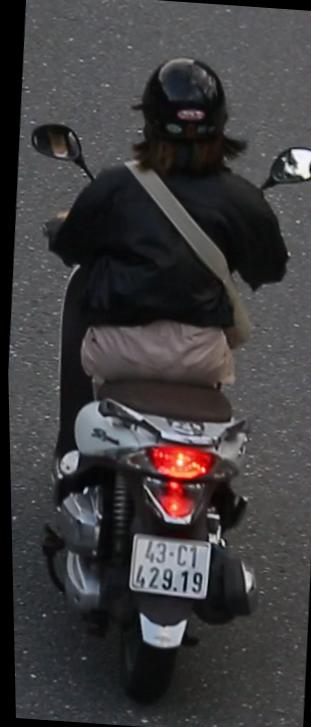LP: (121, 525, 213, 604)
helmet: (125, 47, 239, 177)
